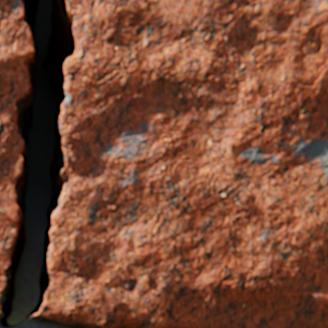broken_brick: (31, 0, 327, 327), (0, 0, 34, 312)
crack: (0, 0, 74, 327)
